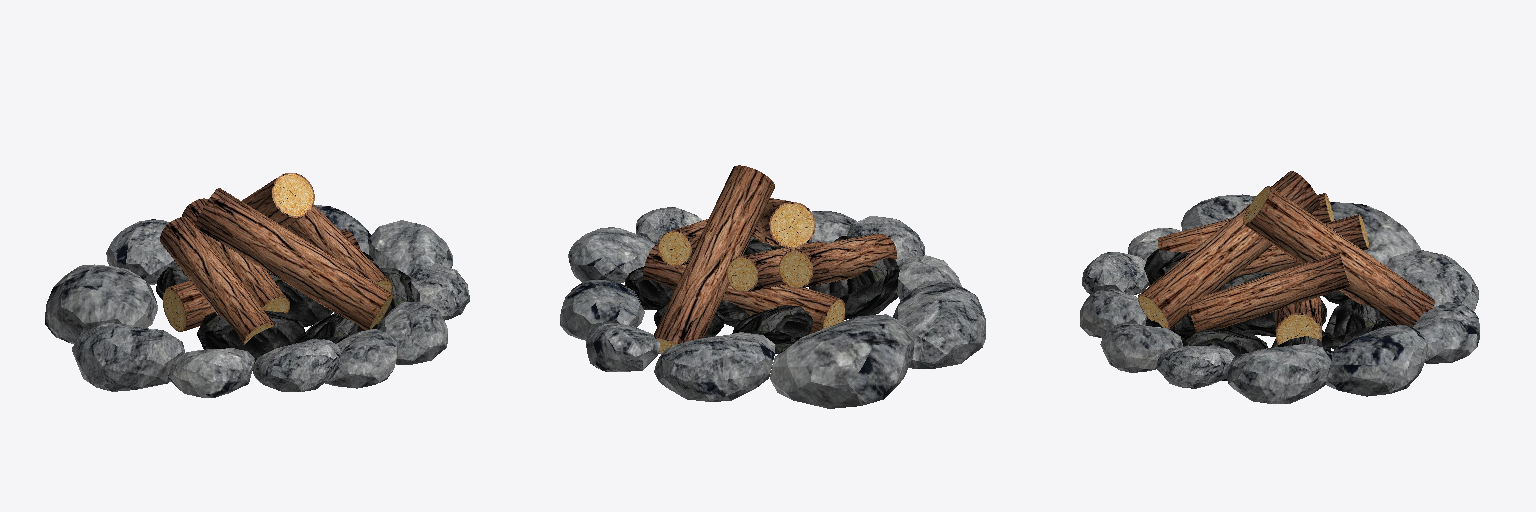
3 views of the same model, side by side, from view 1: azimuth 30°, elevation 25°; view 2: azimuth 150°, elevation 25°; view 3: azimuth 270°, elevation 25° (orthographic).
Visible parts, largest first — view 1: Stones, Log, Coal; view 2: Stones, Log, Coal; view 3: Stones, Log, Coal.
Part boxes in pixels (x1,y1,x2,y2): Stones: (45, 205, 469, 397); Log: (160, 173, 393, 344); Coal: (156, 251, 413, 363); Stones: (560, 207, 985, 408); Log: (643, 165, 896, 353); Coal: (625, 236, 899, 353); Stones: (1080, 194, 1479, 403); Log: (1138, 171, 1434, 344); Coal: (1144, 249, 1389, 380).
Bounding box in the file's own units: 11.14 × 4.44 × 10.08.
3 materials, 3 textured.